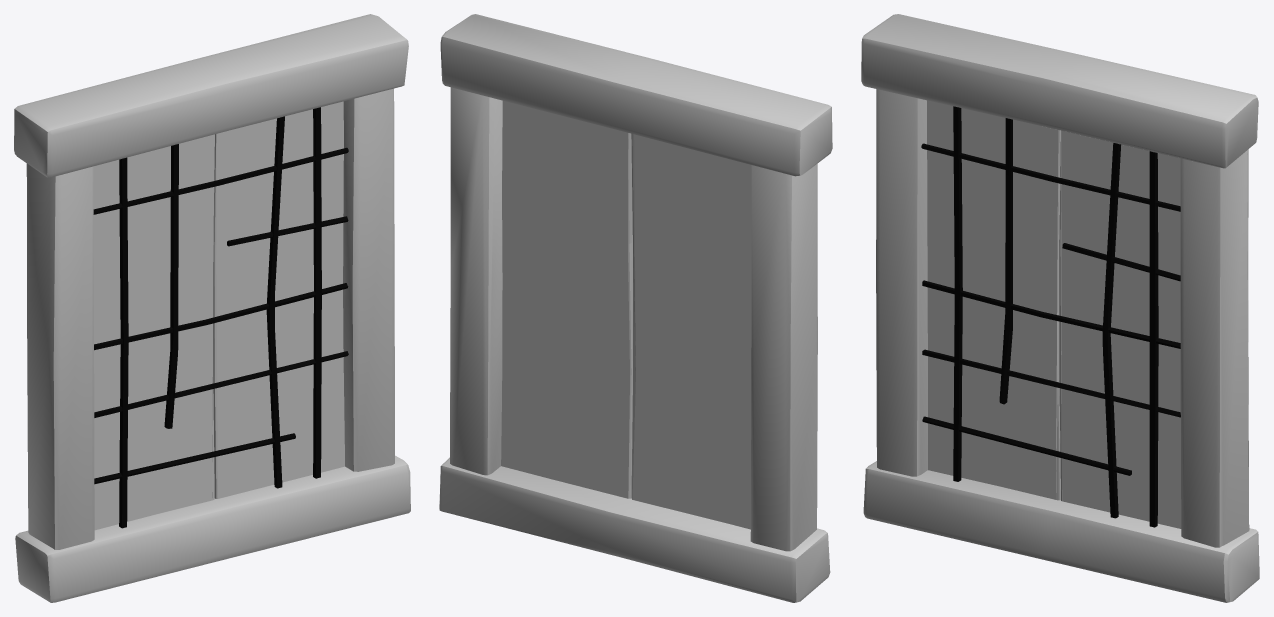
The model's file is SM_Window_04_LOD_01.FBX.
3 renders of one model, left to right at view 1: azimuth 30°, elevation 25°; view 2: azimuth 150°, elevation 25°; view 3: azimuth 330°, elevation 25°, orthographic.
Visible parts, largest first — view 1: SM_Window_04, SM_Window_04_Shutter_Right, SM_Window_04_Shutter_Left; view 2: SM_Window_04, SM_Window_04_Shutter_Right, SM_Window_04_Shutter_Left; view 3: SM_Window_04, SM_Window_04_Shutter_Left, SM_Window_04_Shutter_Right.
Boxes of the visible parts, x1=… form: SM_Window_04: x1=14, y1=14, x2=410, y2=602; SM_Window_04_Shutter_Right: x1=213, y1=101, x2=344, y2=498; SM_Window_04_Shutter_Left: x1=93, y1=134, x2=214, y2=530; SM_Window_04: x1=439, y1=14, x2=832, y2=602; SM_Window_04_Shutter_Right: x1=501, y1=100, x2=632, y2=498; SM_Window_04_Shutter_Left: x1=631, y1=133, x2=751, y2=529; SM_Window_04: x1=861, y1=14, x2=1259, y2=602; SM_Window_04_Shutter_Left: x1=927, y1=100, x2=1060, y2=500; SM_Window_04_Shutter_Right: x1=1059, y1=130, x2=1181, y2=528.
Bounding box in the file's own units: 1.06 × 1.34 × 0.1914.
